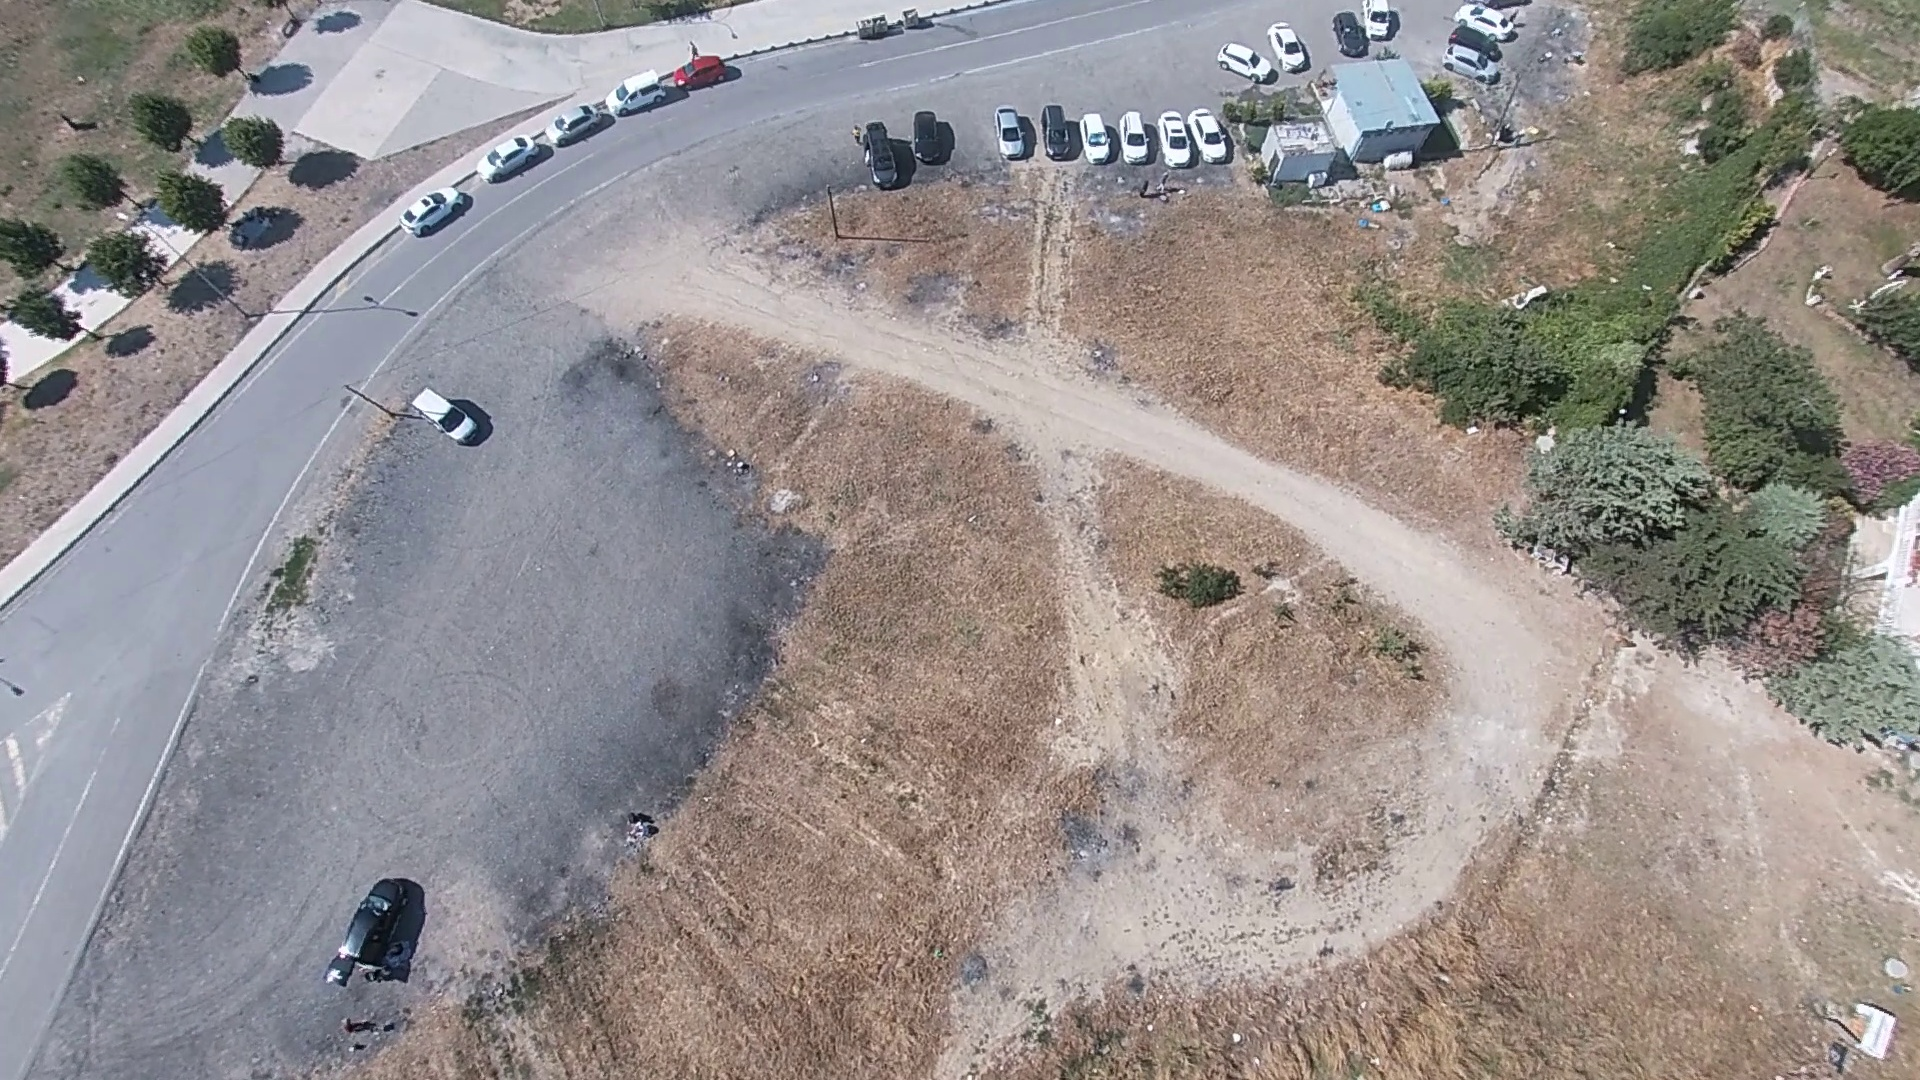araba: (320, 876, 418, 986), (407, 381, 489, 455), (478, 122, 551, 179), (400, 182, 472, 238), (865, 122, 910, 201), (607, 63, 673, 116), (1436, 43, 1504, 88), (910, 103, 952, 164), (1259, 15, 1302, 72), (1217, 41, 1270, 85), (1188, 104, 1229, 159), (1114, 106, 1149, 171), (672, 54, 728, 92), (1079, 113, 1117, 167), (1332, 6, 1369, 62), (1039, 103, 1072, 162), (995, 105, 1032, 156), (1366, 1, 1403, 50)
insan: (849, 122, 860, 144)
